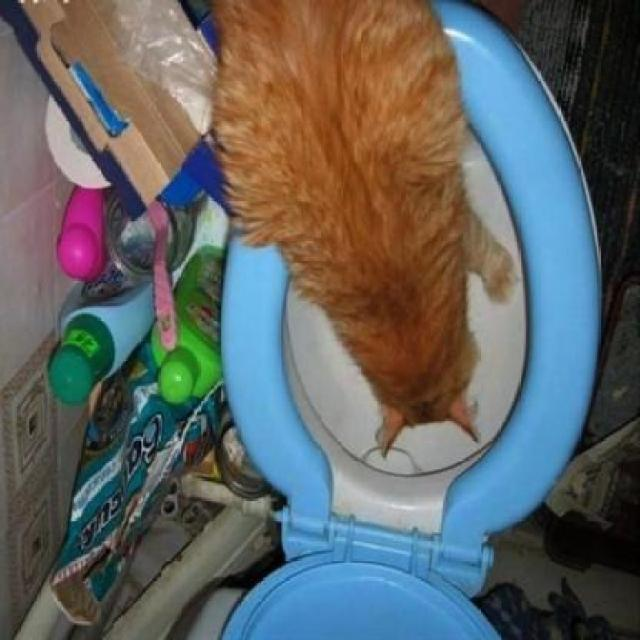cat: (206, 0, 499, 465)
